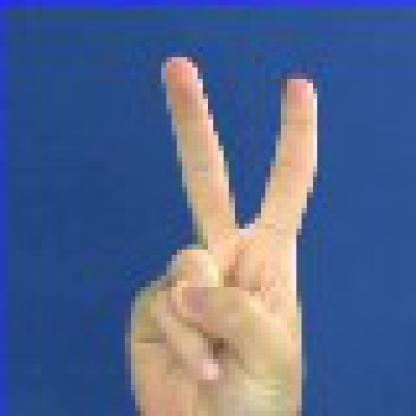two: (104, 47, 328, 411)
